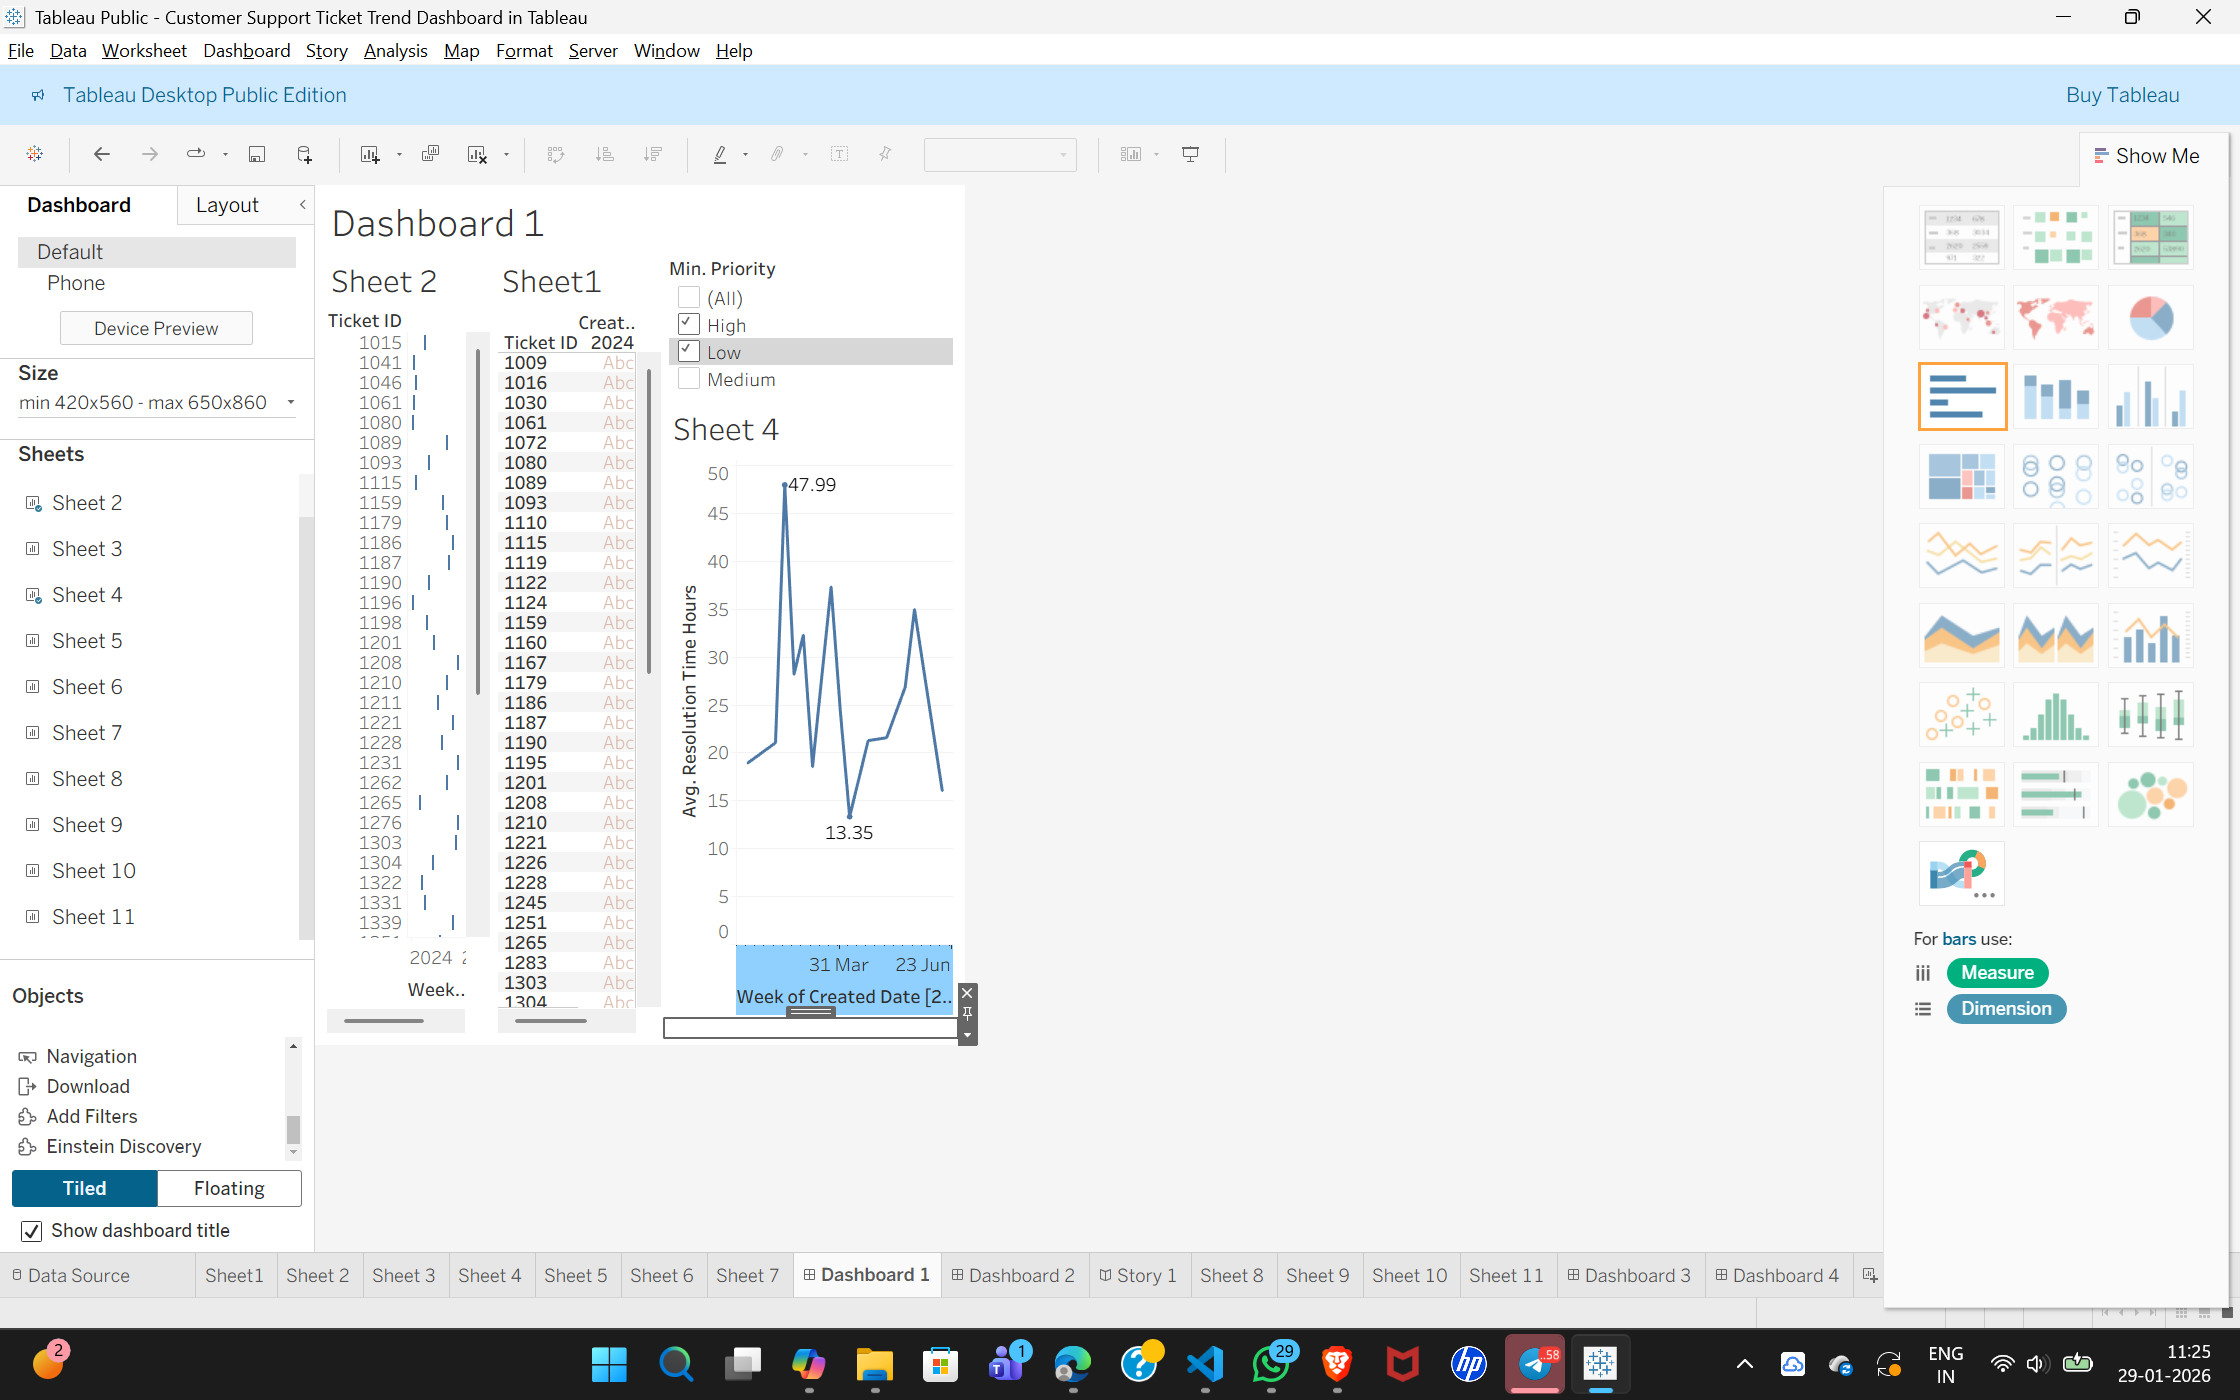

The page's visual inventory and layout, read from the dashboard file:
{"tool":"tableau","page":{"name":"Dashboard 1","canvas":[650,860],"ordinal":0},"visuals":[{"type":"title","box":[8,8,634,58]},{"type":"worksheet","title":"Sheet 2","mark":"Automatic","rows":["Ticket_ID"],"cols":["Created_Date"],"box":[8,66,171,786]},{"type":"worksheet","title":"Sheet1","mark":"Text","rows":["Ticket_ID"],"cols":["Created_Date"],"box":[179,66,171,786]},{"type":"filter","title":"Sheet1","param":"[federated.106e6lh0kuudq61h7i9lo0r2qkht].[min:Priority:nk]","box":[350,66,292,148]},{"type":"worksheet","title":"Sheet 4","mark":"Automatic","rows":["Resolution_Time_Hours"],"cols":["Created_Date"],"box":[350,214,292,620]},{"type":"text","box":[350,834,292,18]}]}

Visuals, with their boxes on the page's 650x860 design canvas (x1, y1, x2, y2). These are canvas units, not pixel positions in the 2240x1400 screenshot, which may show the page scaled, cropped or inside an application window:
title: Rect(8, 8, 642, 66)
"Sheet 2" worksheet: Rect(8, 66, 179, 852)
"Sheet1" worksheet (Text marks): Rect(179, 66, 350, 852)
"Sheet1" filter: Rect(350, 66, 642, 214)
"Sheet 4" worksheet: Rect(350, 214, 642, 834)
text: Rect(350, 834, 642, 852)
